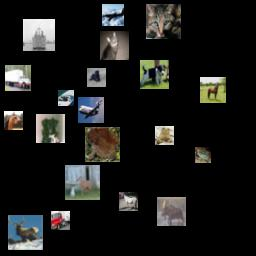airplane: (78, 97, 104, 123), (102, 4, 124, 26)
cat: (146, 4, 181, 39), (100, 31, 129, 60)
deer: (65, 165, 100, 200), (8, 215, 43, 250), (157, 197, 186, 226)
dog: (140, 60, 169, 89), (36, 114, 65, 143), (87, 68, 106, 87)
frog: (85, 127, 120, 162), (155, 126, 174, 145), (195, 147, 211, 163)
ship: (23, 19, 55, 51), (58, 90, 74, 106)
truck: (5, 65, 31, 91), (51, 211, 70, 230)
